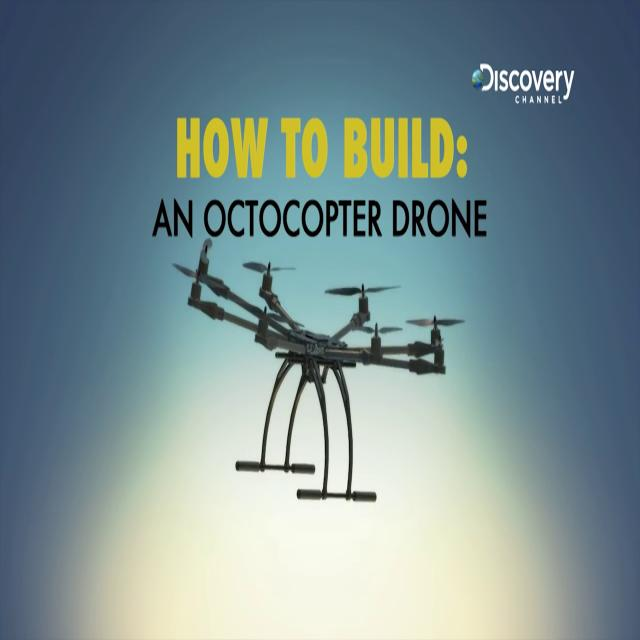drone: (178, 228, 446, 532)
